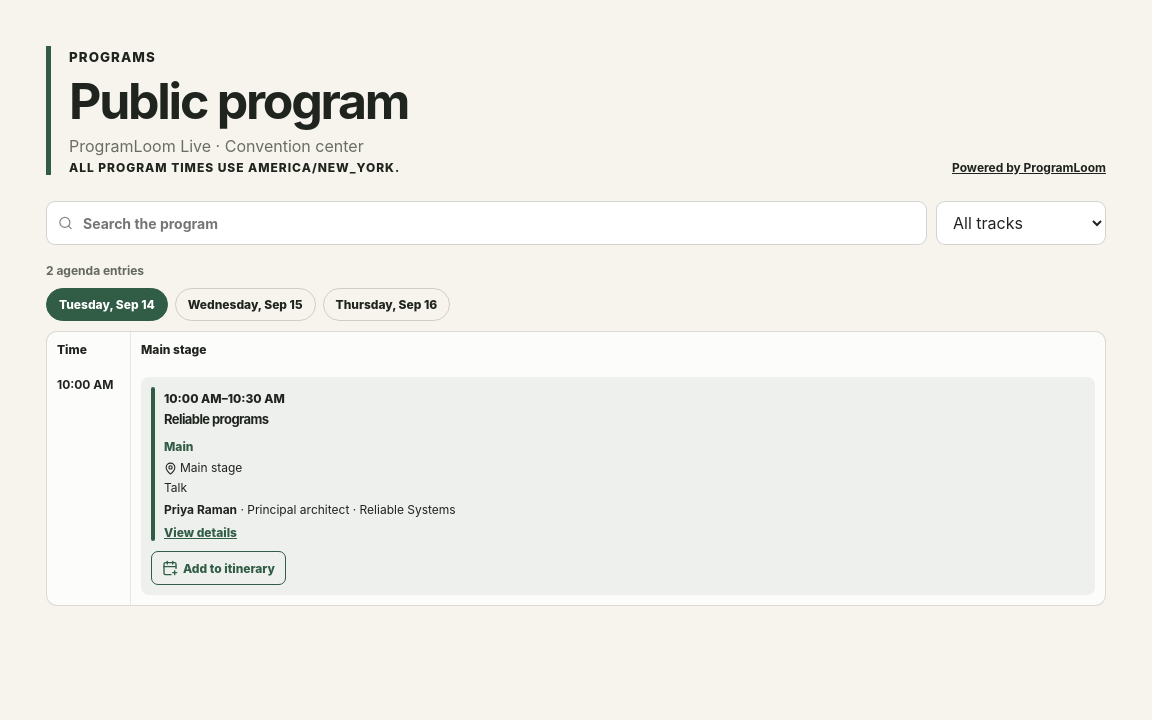
public widgets › keeps every event day available even when one day has no sessions
Step 1. Click the tab "Thursday, Sep 16" → point(386, 304), box [322,288,450,321]
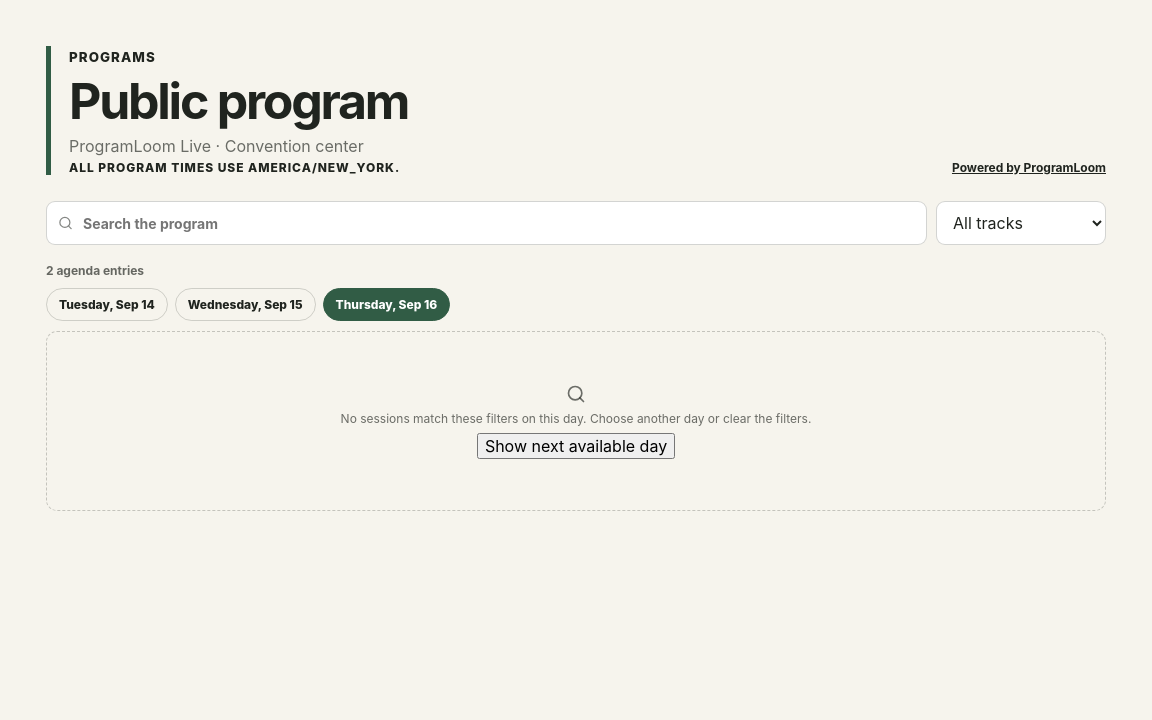
Check: the text "No sessions match these filters on this day" is shown, box [341,410,811,426]
